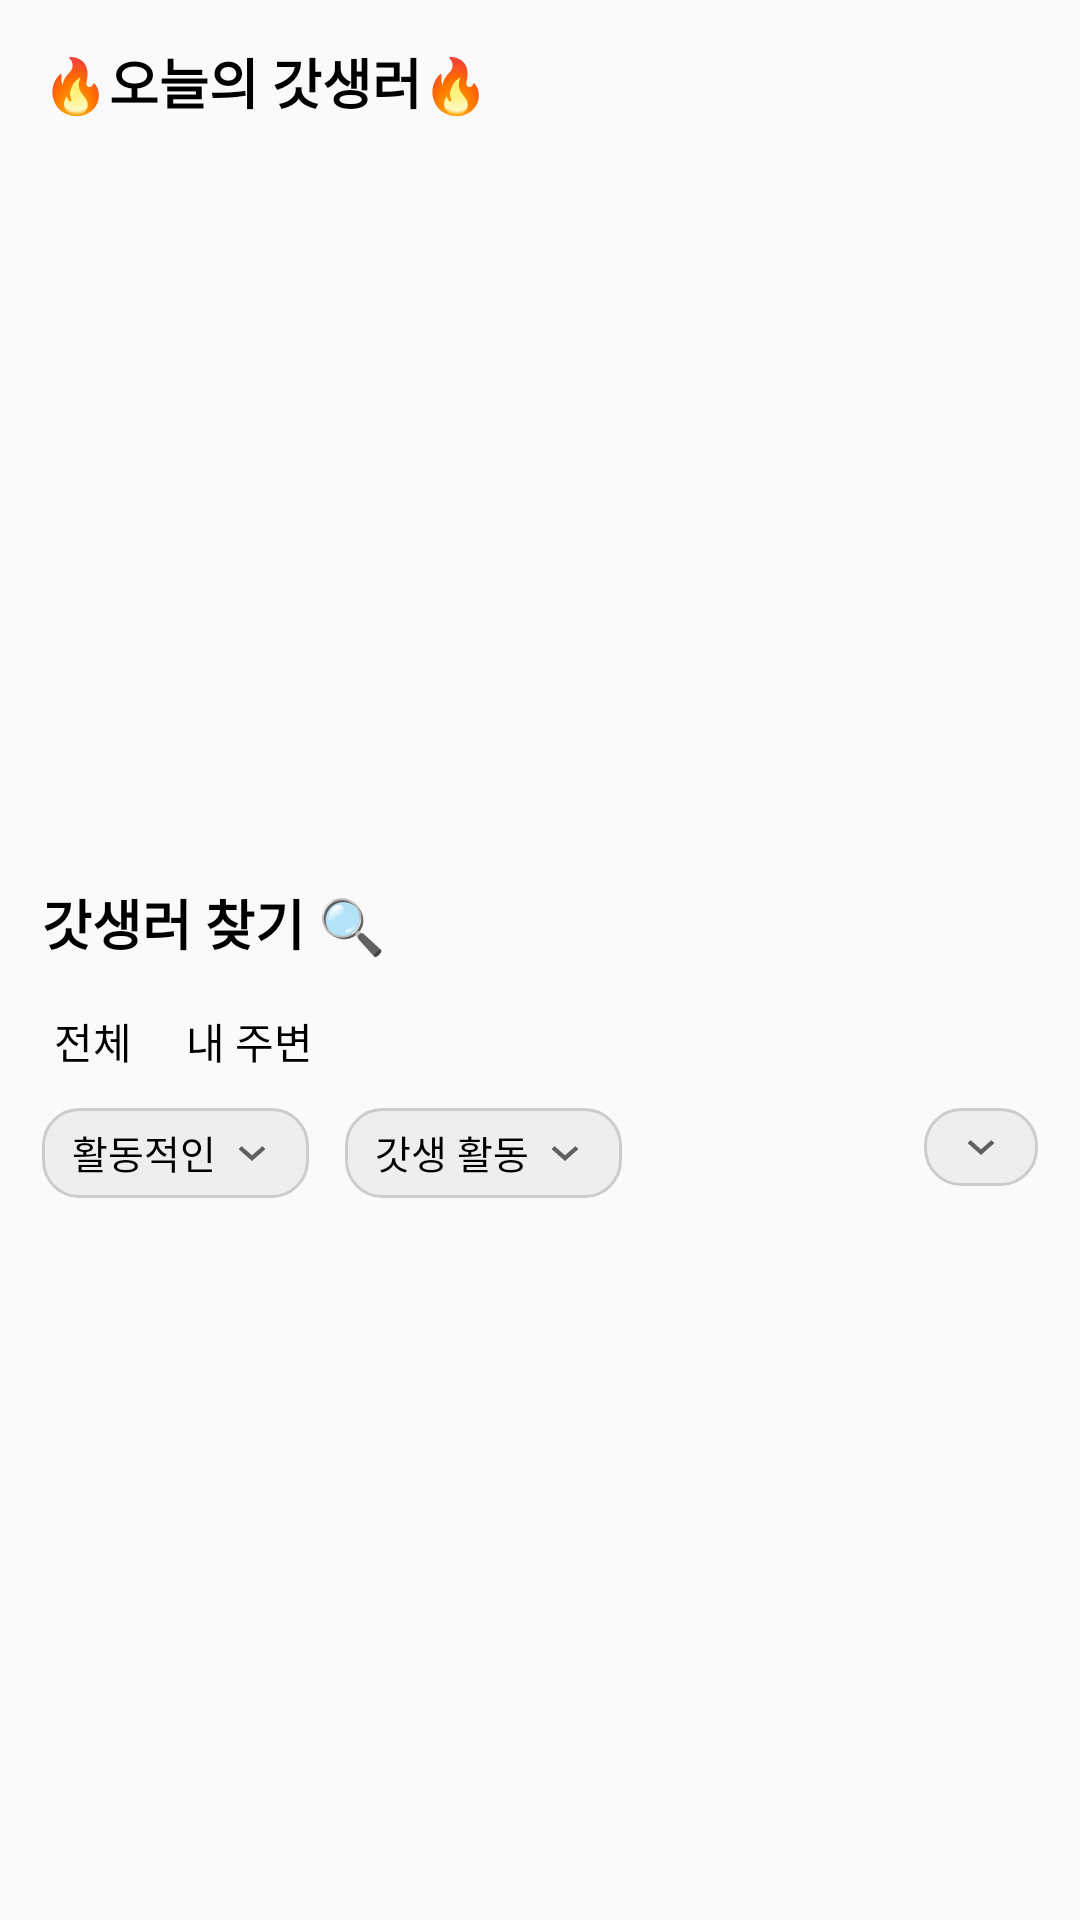

Point at icon controls on the screen. Image size 1080×1920, points as [x,y].
keyboard arrow down: [981,1147]
